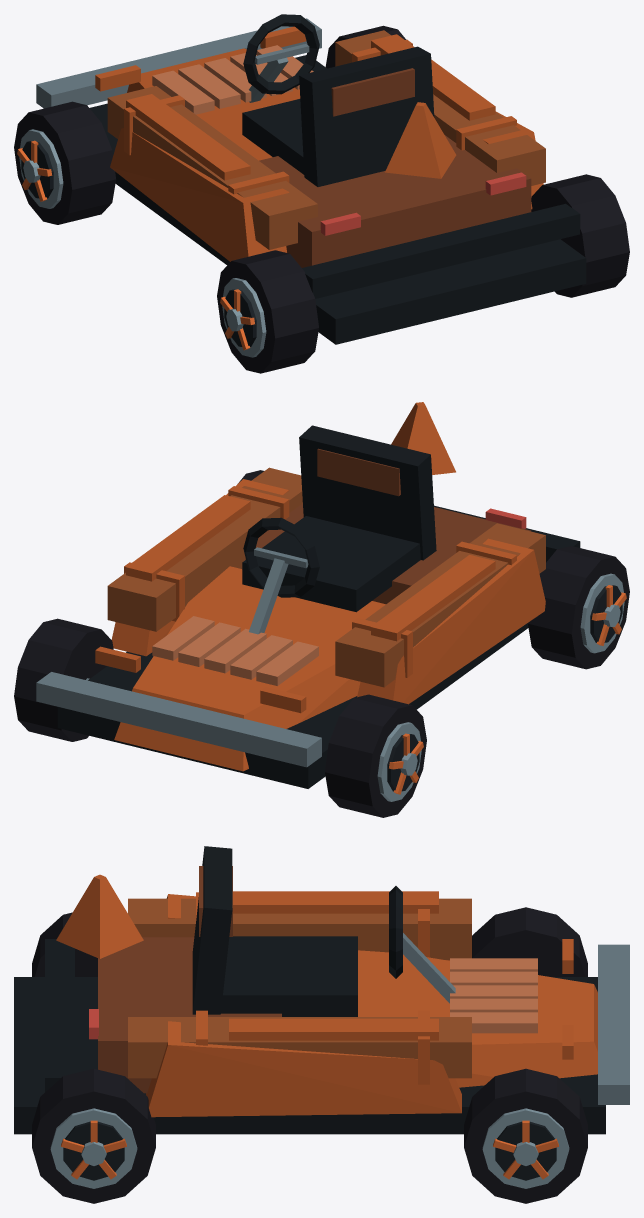
Rendered from kart.glb.
3 renders of one model, top to bottom at view 1: azimuth 30°, elevation 25°; view 2: azimuth 150°, elevation 25°; view 3: azimuth 270°, elevation 25°, orthographic. The views are drawn at different scales.
Visible parts, largest first — view 1: chassis, wheel-rear-left, wheel-front-left, wheel-rear-right, wheel-front-right; view 2: chassis, wheel-front-left, wheel-rear-left, wheel-front-right; view 3: chassis, wheel-front-right, wheel-rear-right, wheel-front-left, wheel-rear-left.
Part boxes in pixels (x1,y1,x2,y2): chassis: (36,14,586,344); wheel-rear-left: (217,250,318,373); wheel-front-left: (14,101,116,224); wheel-rear-right: (531,174,629,297); wheel-front-right: (325,25,406,68); chassis: (36,402,580,788); wheel-front-left: (325,694,426,817); wheel-rear-left: (527,546,629,669); wheel-front-right: (14,618,113,741); chassis: (14,846,629,1134); wheel-front-right: (464,1068,587,1203); wheel-rear-right: (32,1068,155,1203); wheel-front-left: (472,907,587,976); wheel-rear-left: (32,912,97,976).
Size of the model in its own units: 2.35 by 1.3 by 3.08.
